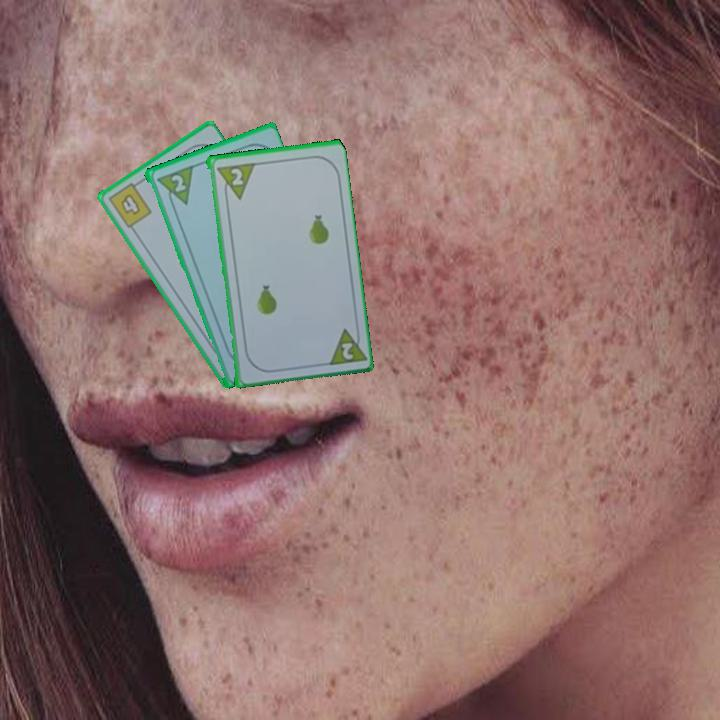2p: (167, 171, 188, 195), (226, 164, 245, 188), (337, 338, 356, 362)
4b: (104, 177, 155, 231)
